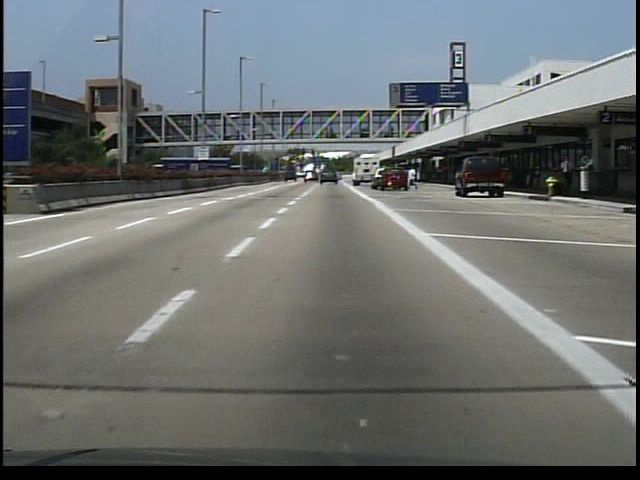person: (555, 153, 577, 200), (406, 168, 420, 191)
